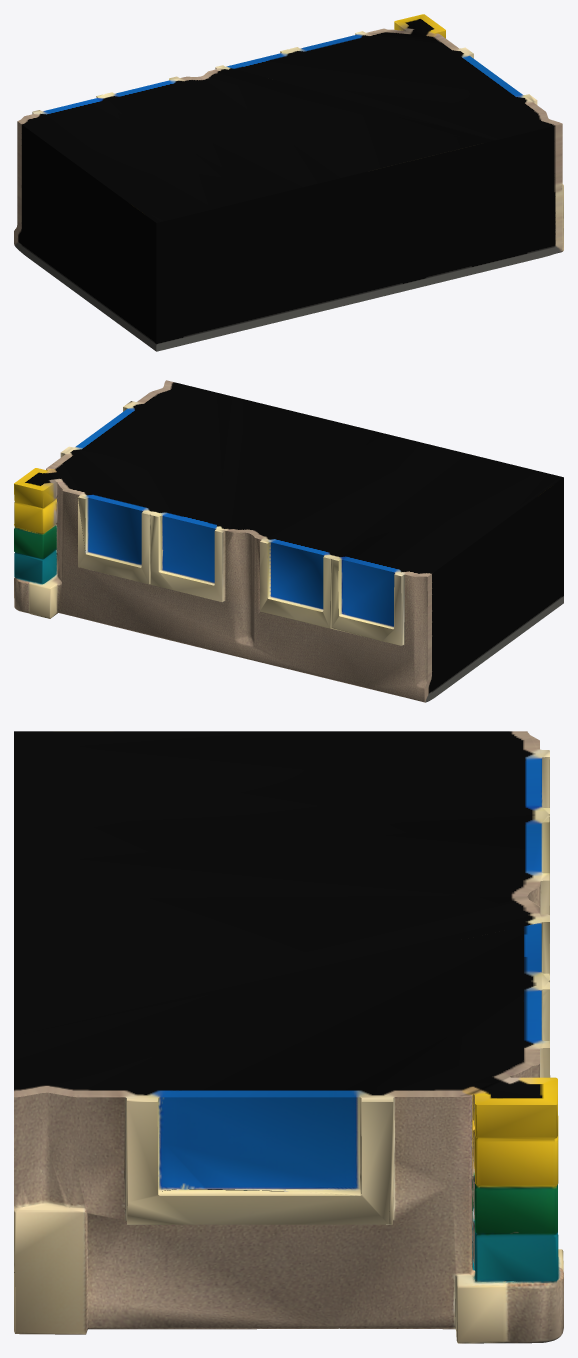
Rendered from 4-ground-floor-back-right.fbx.
The picture shows the model from 3 angles, top to bottom: view 1: azimuth 30°, elevation 25°; view 2: azimuth 150°, elevation 25°; view 3: azimuth 270°, elevation 25°; orthographic projection. The views are drawn at different scales.
Visible parts, largest first — view 1: ground-floor-back-right; view 2: ground-floor-back-right; view 3: ground-floor-back-right.
Part boxes in pixels (box(x1,y1,x2,y2)): ground-floor-back-right: box(14, 14, 563, 351); ground-floor-back-right: box(14, 380, 563, 702); ground-floor-back-right: box(14, 731, 563, 1343).
Size of the model in its own units: 7426 by 2185 by 4584.
1 material, 1 textured.
